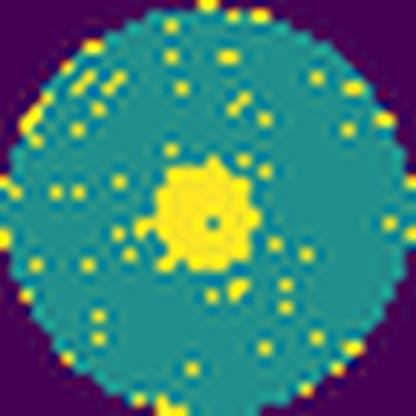Center: (138, 153, 264, 277)
